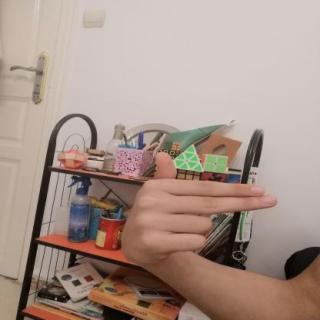GHAYN: (110, 146, 286, 270)
